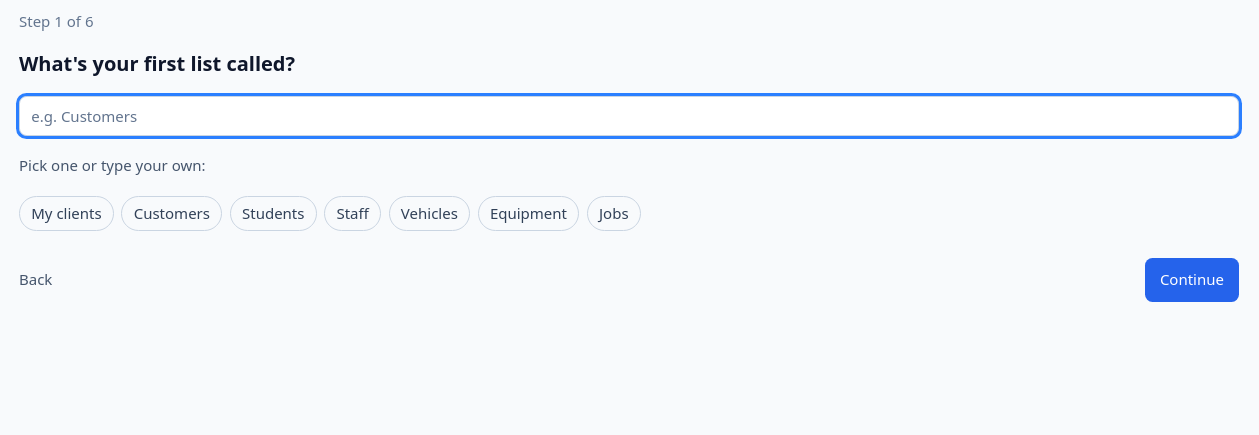
it: GuidedBlankStart › a list name that says nothing about its rows ("My caseload") falls back to the kind's words
Type "My caseload" into the field named "List name" at x=629, y=116, box [19,96,1239,136]
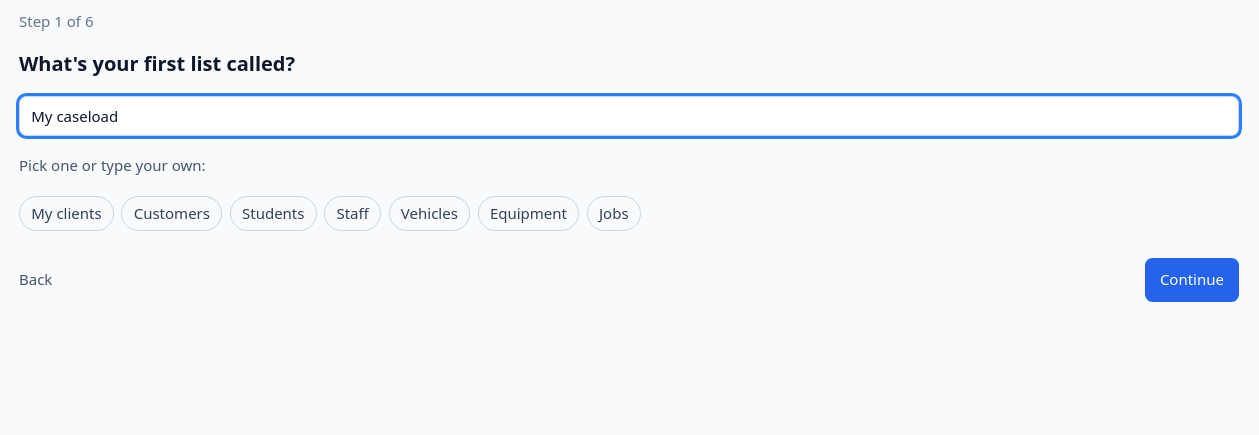
Click the button "Continue" at x=1192, y=280, box [1145,258,1239,302]
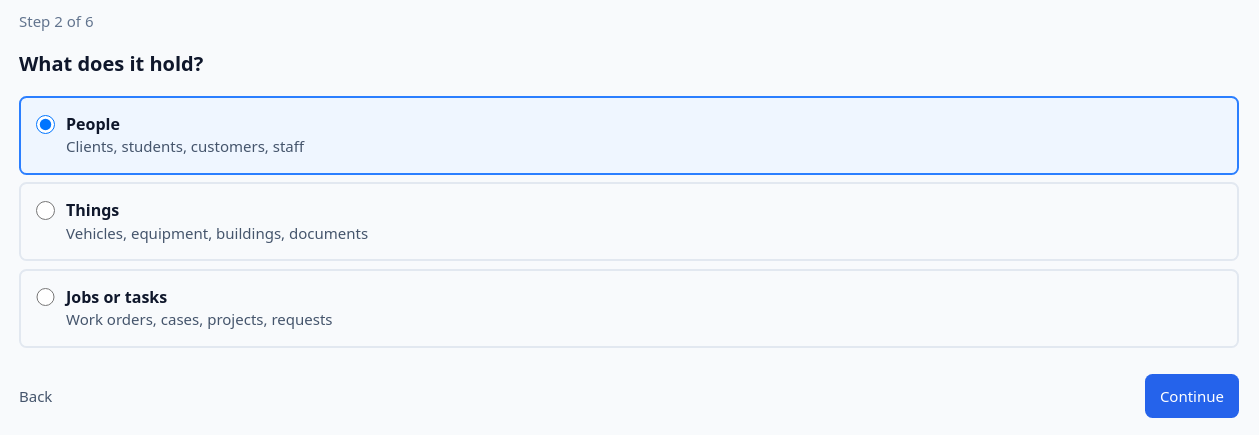
Click the radio button labelled "Things Vehicles, equipment, buildings, documents" at x=45, y=211, box [36,201,55,220]
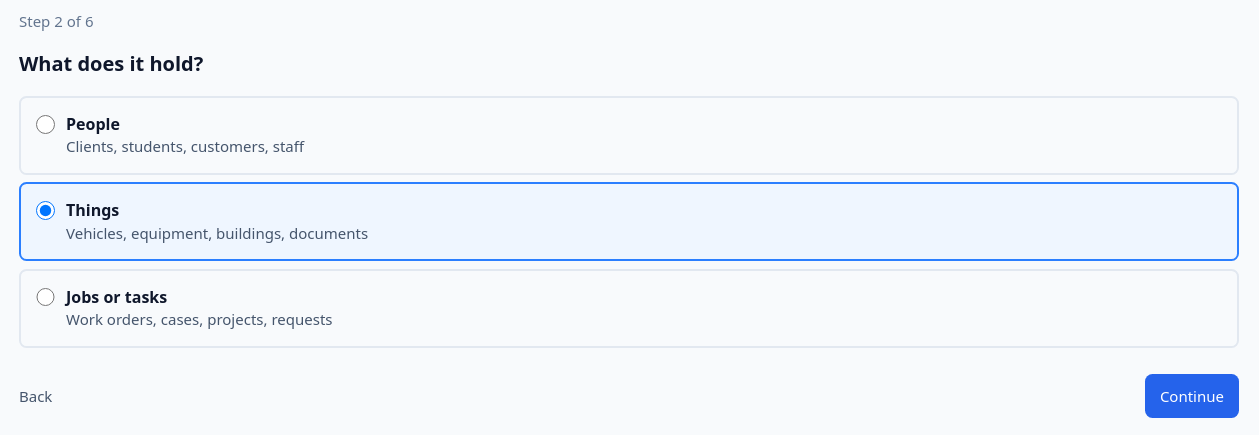
Click the button "Continue" at x=1192, y=396, box [1145,374,1239,418]
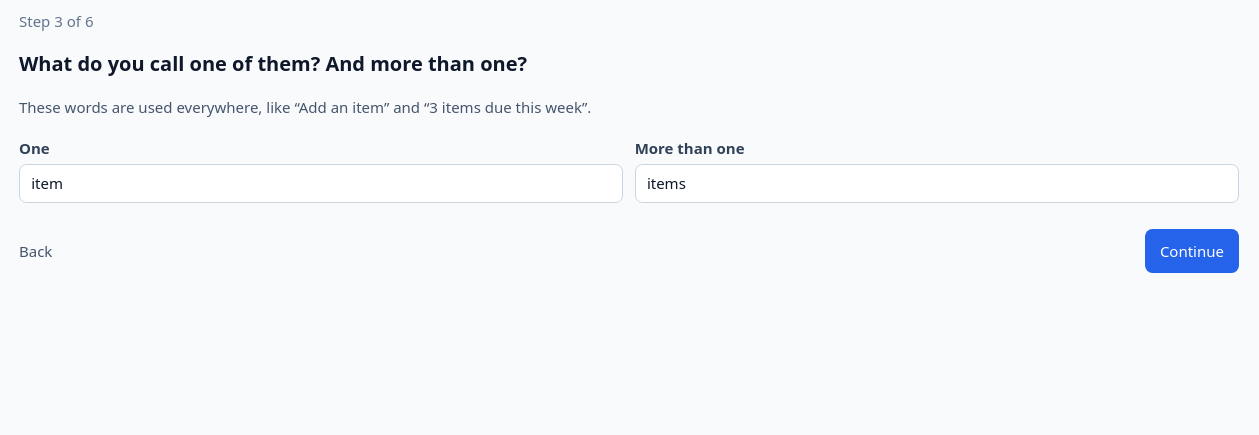
Expected: the field labelled "One" holds "item", [19,164,623,203]
Expected: the field labelled "More than one" holds "items", [635,164,1239,203]
